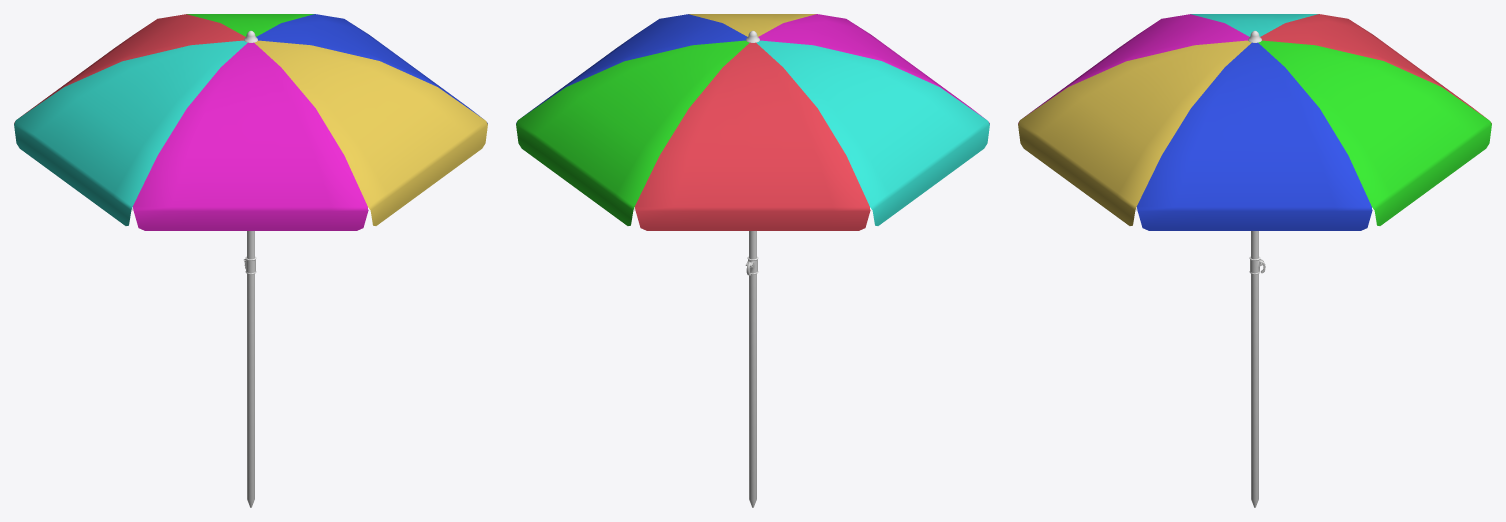
File: umbrella.glb
The picture shows the model from 3 angles, left to right: view 1: azimuth 30°, elevation 25°; view 2: azimuth 150°, elevation 25°; view 3: azimuth 270°, elevation 25°; orthographic projection.
Visible parts, largest first — view 1: body; view 2: body; view 3: body.
Part boxes in pixels (x1=…): body: x1=14, y1=14, x2=487, y2=507; body: x1=516, y1=14, x2=989, y2=507; body: x1=1018, y1=14, x2=1491, y2=507.
Bounding box in the file's own units: 1.8 × 2.3 × 2.07.
